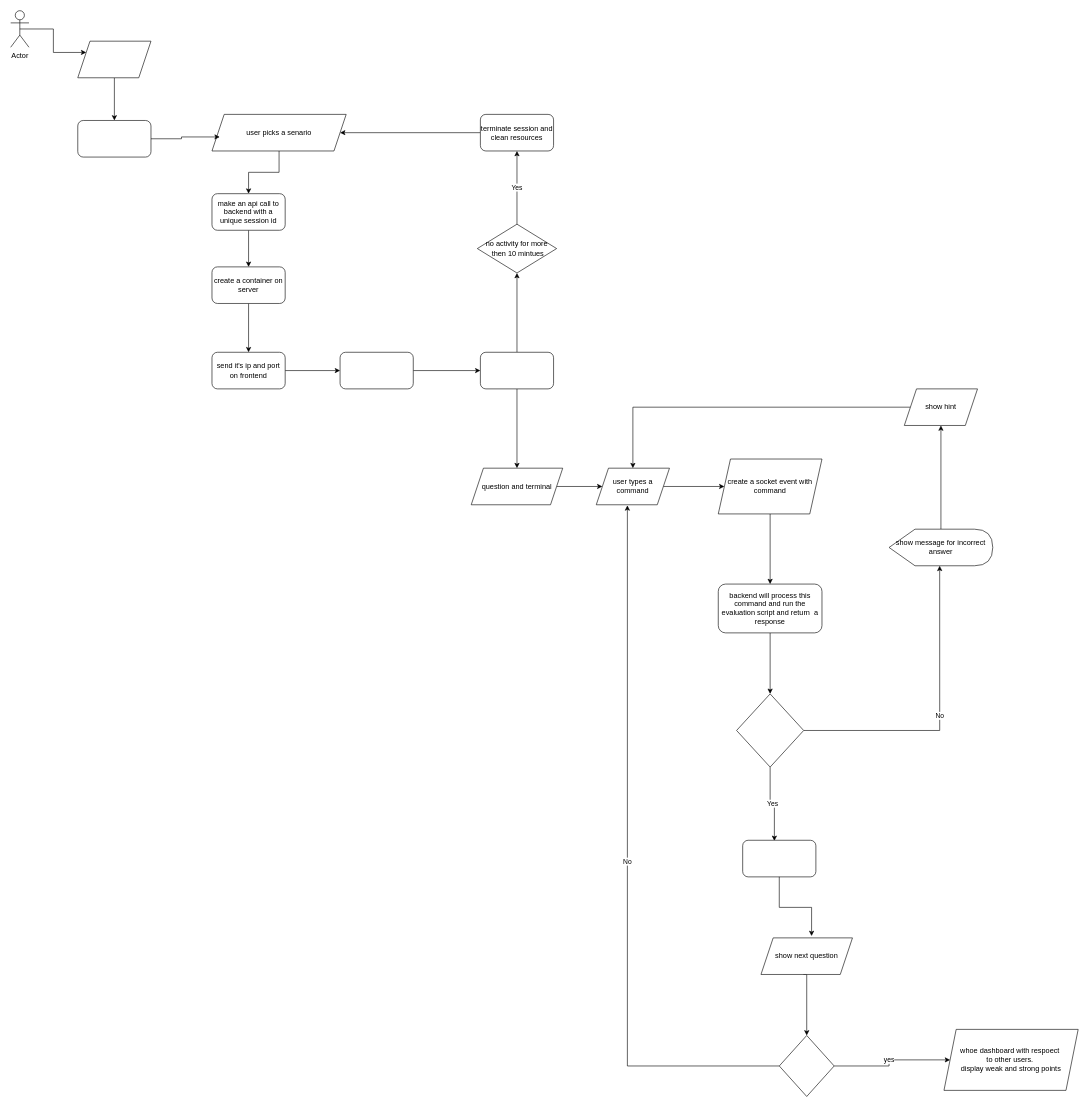
Some shapes in this 1089 by 1107 pixel diagram are drawn without their labels. Each missing label, with the centre of its shape:
"correct answer" goes at point (770, 730).
"incretment points" goes at point (779, 858).
"last question" goes at point (806, 1065).
"login/signup" goes at point (114, 59).
"make a websocket connection with backend" goes at point (376, 370).
"scenarios dashboard" goes at point (114, 138).
"track user activity" goes at point (517, 370).
